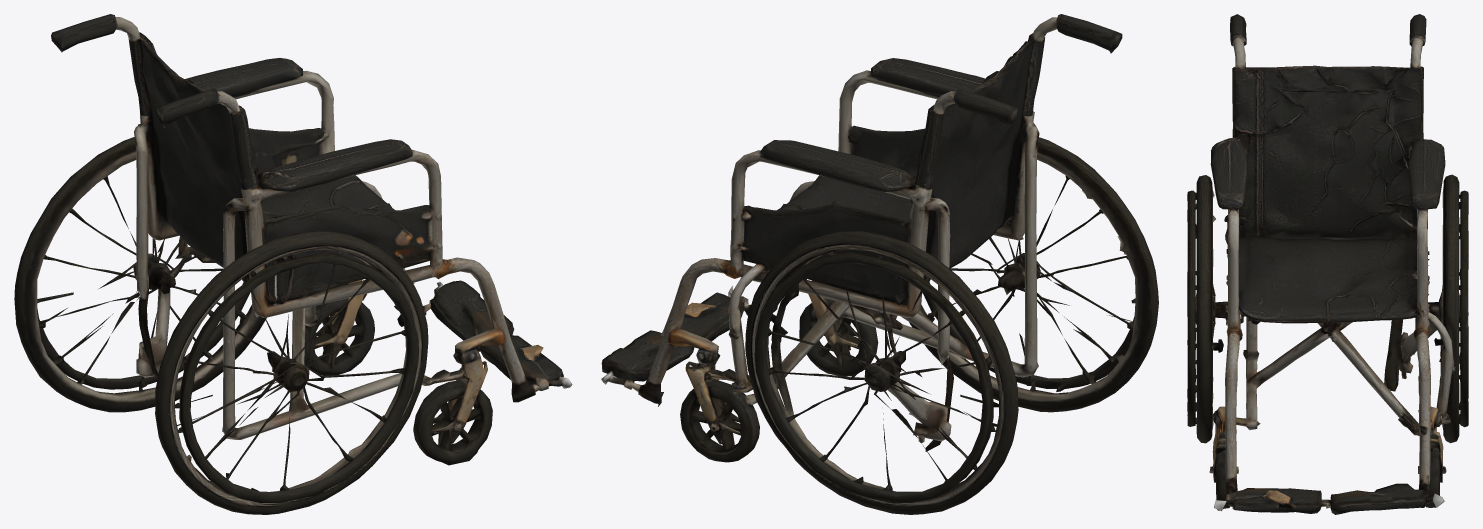
The model's file is scene-wheelchair-v03.glb.
3 renders of one model, left to right at view 1: azimuth 30°, elevation 25°; view 2: azimuth 150°, elevation 25°; view 3: azimuth 270°, elevation 25°, orthographic. The views are drawn at different scales.
Parts seen in each view (by area): view 1: tripo_node_0f28b35d-8f37-4540-abae-e5837dc83527; view 2: tripo_node_0f28b35d-8f37-4540-abae-e5837dc83527; view 3: tripo_node_0f28b35d-8f37-4540-abae-e5837dc83527.
Part boxes in pixels (box(x1,y1,x2,y2)): tripo_node_0f28b35d-8f37-4540-abae-e5837dc83527: box(14, 14, 572, 514); tripo_node_0f28b35d-8f37-4540-abae-e5837dc83527: box(601, 14, 1158, 514); tripo_node_0f28b35d-8f37-4540-abae-e5837dc83527: box(1187, 14, 1468, 514).
Size of the model in its own units: 1.08 by 1 by 0.686.
Materials: 1 (1 with a texture image).
